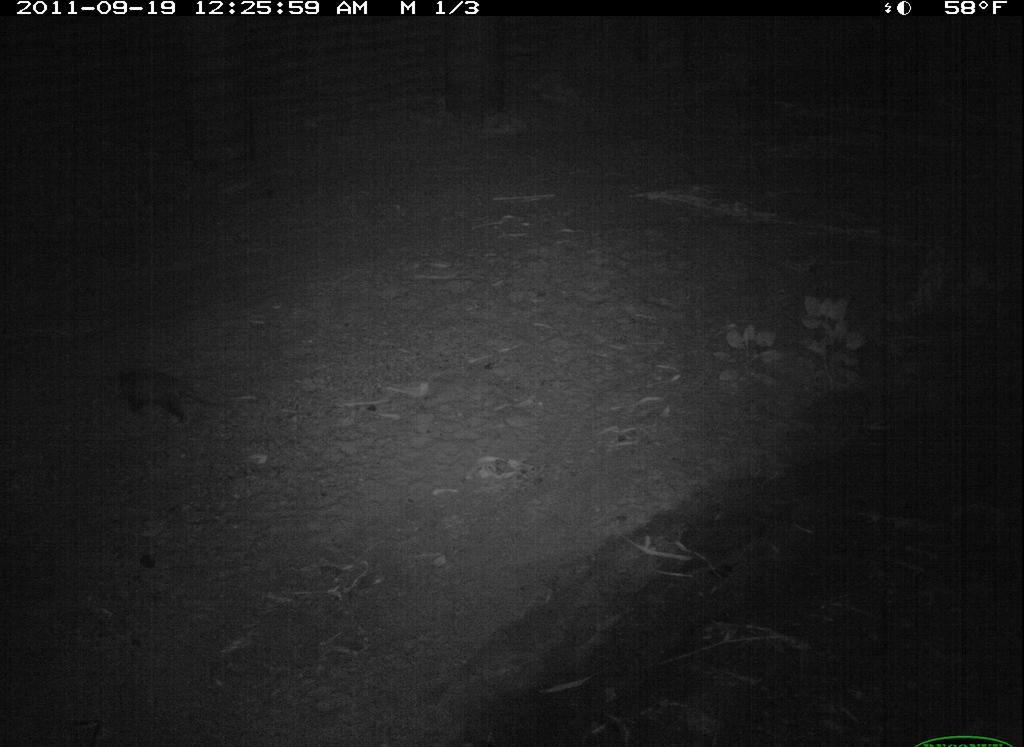opossum: (105, 365, 232, 433)
